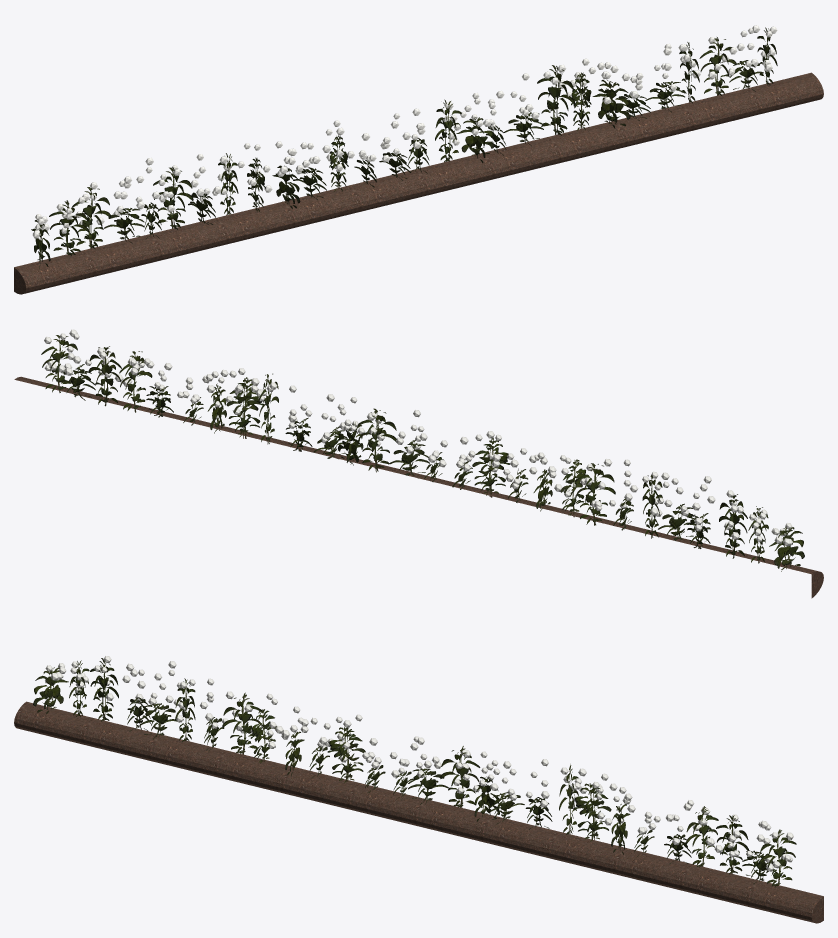
Rendered from crop_row_cotton.glb.
3 renders of one model, top to bottom at view 1: azimuth 30°, elevation 25°; view 2: azimuth 150°, elevation 25°; view 3: azimuth 330°, elevation 25°, orthographic.
Visible parts, largest first — view 1: ridge, plant, bolls; view 2: plant, bolls, ridge; view 3: ridge, plant, bolls.
Boxes of the visible parts, <box> form: ridge: <box>14,72,823,294</box>; plant: <box>31,27,777,268</box>; bolls: <box>32,25,777,238</box>; plant: <box>41,335,804,571</box>; bolls: <box>44,329,792,545</box>; ridge: <box>14,376,823,598</box>; ridge: <box>14,701,823,923</box>; plant: <box>33,658,796,886</box>; bolls: <box>45,656,793,871</box>.
Size of the model in its own units: 12 by 1.43 by 0.6719.
Materials: 3 (2 with a texture image).
